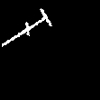double_crochet: (2, 9, 51, 46)
